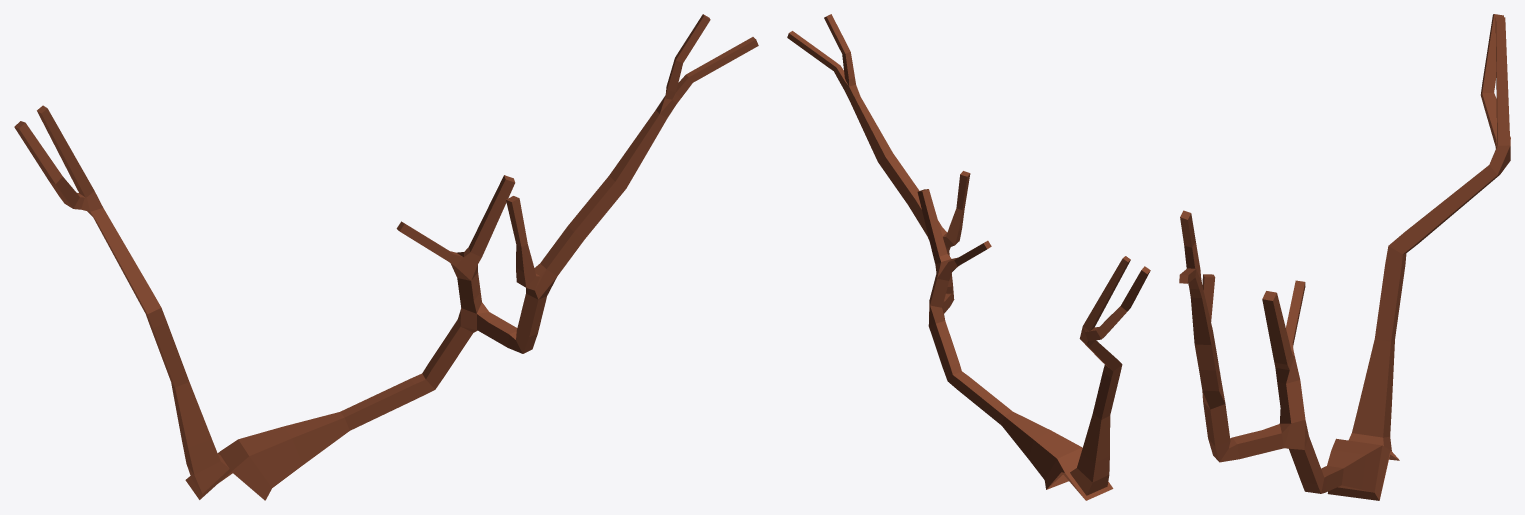
Rendered from Baum1_Einzelobjekt.fbx.
3 views of the same model, side by side, from view 1: azimuth 30°, elevation 25°; view 2: azimuth 150°, elevation 25°; view 3: azimuth 270°, elevation 25° (orthographic). The views are drawn at different scales.
Visible parts, largest first — view 1: Baum.002; view 2: Baum.002; view 3: Baum.002.
Part boxes in pixels (x1=…): Baum.002: x1=14, y1=14, x2=758, y2=500; Baum.002: x1=787, y1=14, x2=1150, y2=500; Baum.002: x1=1179, y1=14, x2=1510, y2=500.
Size of the model in its own units: 330 by 234 by 146.
